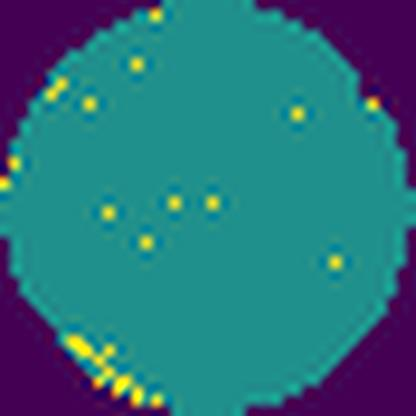Scratch: (65, 332, 163, 405)
